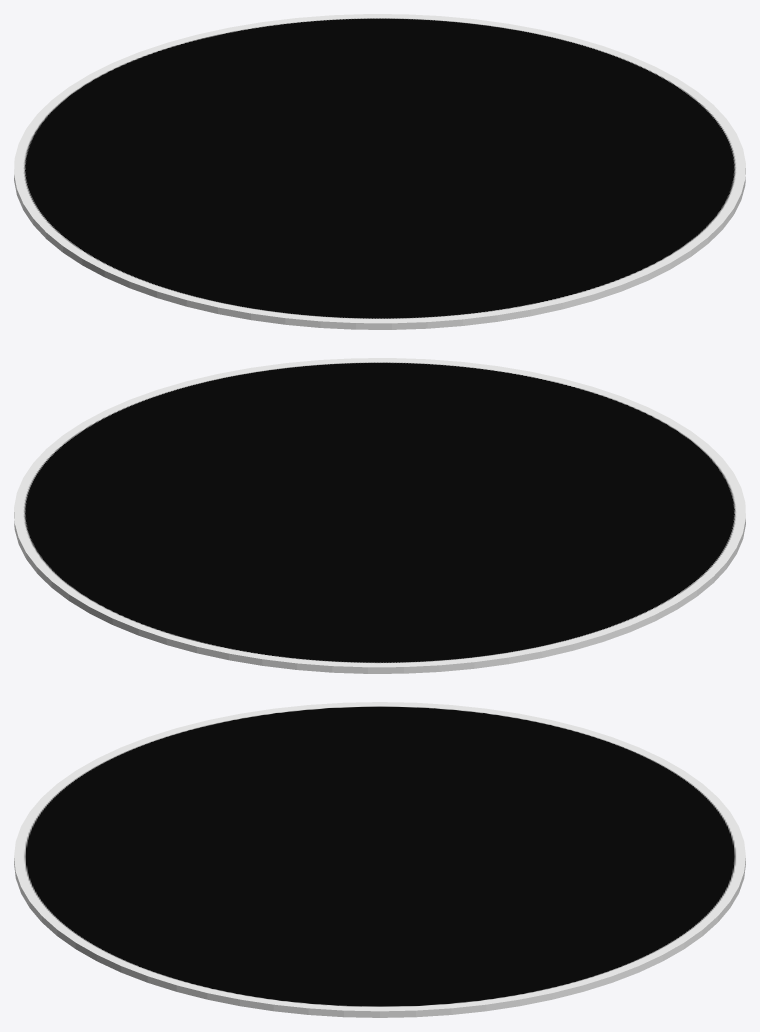
File: portal.dae
3 renders of one model, top to bottom at view 1: azimuth 30°, elevation 25°; view 2: azimuth 150°, elevation 25°; view 3: azimuth 270°, elevation 25°, orthographic.
Visible parts, largest first — view 1: Cylinder.001; view 2: Cylinder.001; view 3: Cylinder.001.
Part boxes in pixels (x1,y1,x2,y2): Cylinder.001: (14, 14, 745, 329); Cylinder.001: (14, 358, 745, 673); Cylinder.001: (14, 702, 745, 1017).
Size of the model in its own units: 2 by 2 by 0.02.
Materials: 1 (1 with a texture image).
